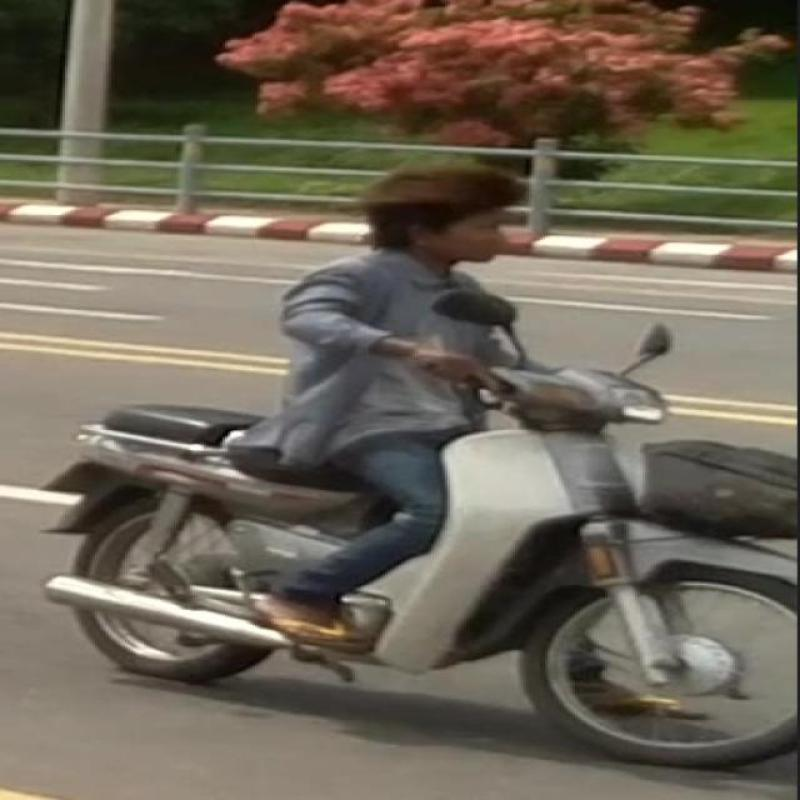nohelmet: (330, 151, 518, 267)
